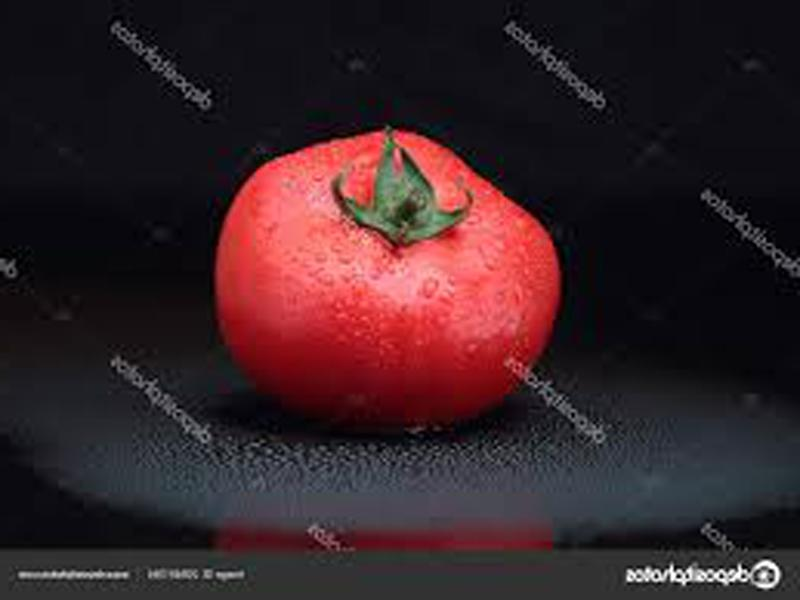Tomato: (212, 126, 561, 428)
